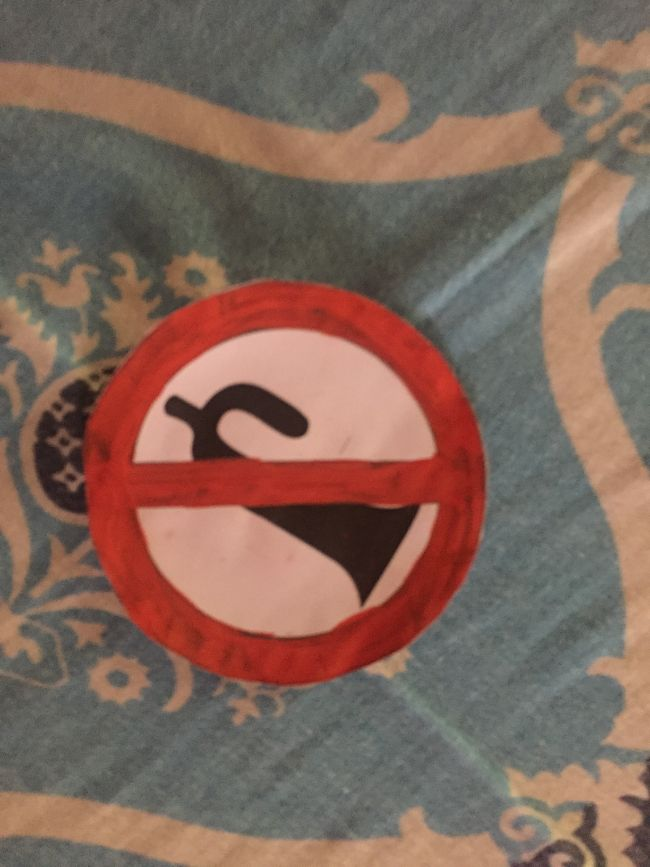no-horn: (79, 281, 475, 677)
